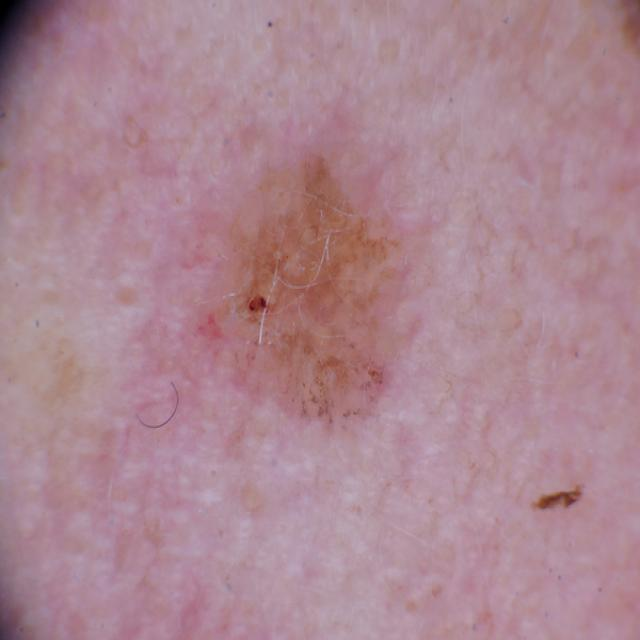Skin-Cancer Pigmented benign keratosis: (78, 63, 566, 592)
